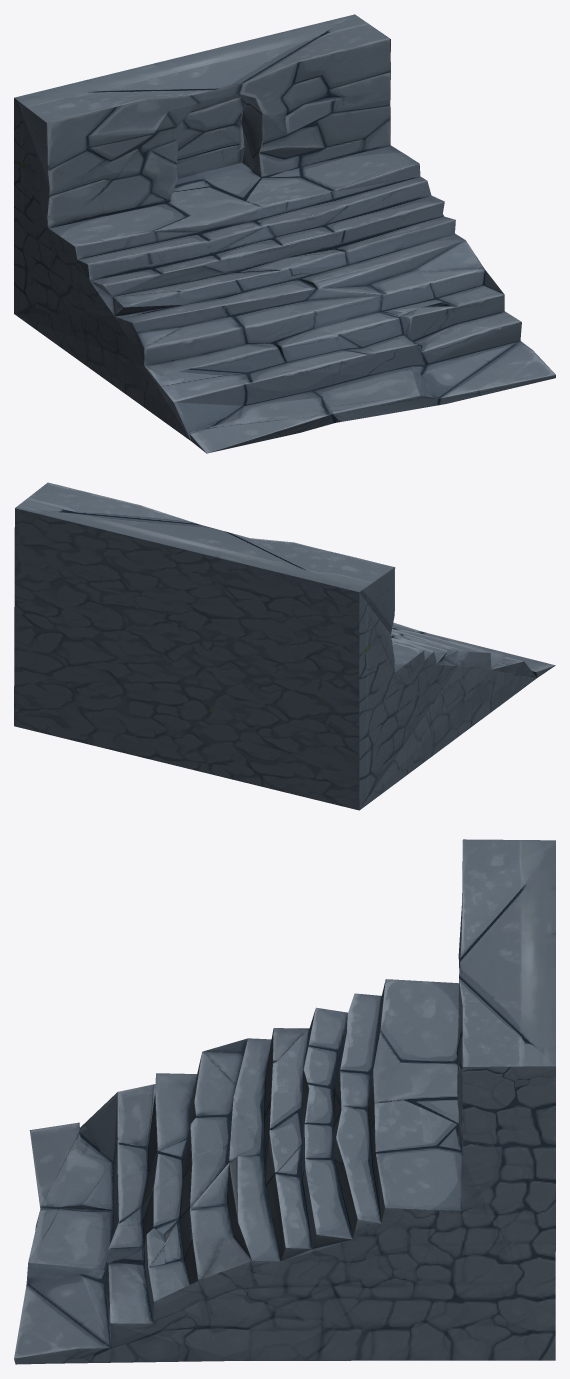
Rendered from stairs_down.glb.
3 renders of one model, top to bottom at view 1: azimuth 30°, elevation 25°; view 2: azimuth 150°, elevation 25°; view 3: azimuth 270°, elevation 25°, orthographic. The views are drawn at different scales.
Parts seen in each view (by area): view 1: Tile; view 2: Tile; view 3: Tile.
Boxes of the visible parts, left/top/right/bottom form: Tile: left=14, top=14, right=555, bottom=453; Tile: left=14, top=482, right=555, bottom=810; Tile: left=14, top=839, right=555, bottom=1364.
Bounding box in the file's own units: 1 × 0.6137 × 1.
Materials: 1 (1 with a texture image).
